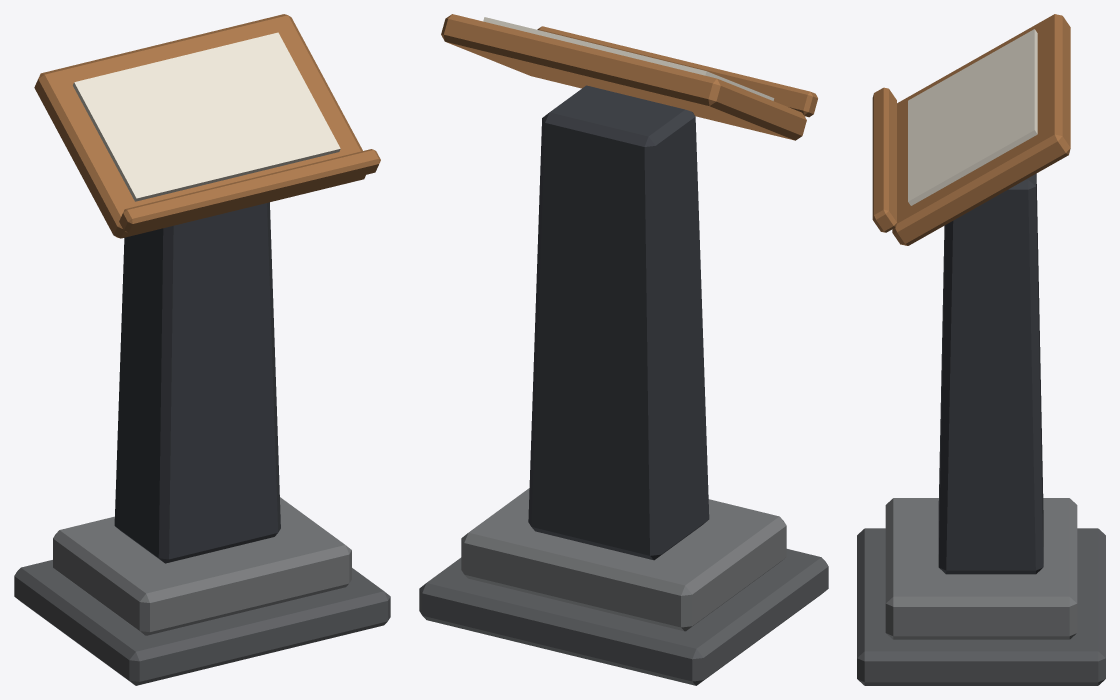
Rendered from Lobby7_InfoLectern.fbx.
The picture shows the model from 3 angles, left to right: view 1: azimuth 30°, elevation 25°; view 2: azimuth 150°, elevation 25°; view 3: azimuth 270°, elevation 25°; orthographic projection. The views are drawn at different scales.
Parts seen in each view (by area): view 1: Charcoal, Screen, SlateStone, Wood, SlateStoneDark; view 2: Charcoal, SlateStone, SlateStoneDark, Wood, Screen; view 3: Charcoal, SlateStone, SlateStoneDark, Wood, Screen.
Part boxes in pixels (box(x1,y1,x2,y2)): Charcoal: box(114, 202, 280, 563); Screen: box(73, 32, 340, 201); SlateStone: box(53, 497, 351, 635); Wood: box(34, 14, 380, 238); SlateStoneDark: box(14, 560, 390, 685); Charcoal: box(528, 85, 709, 560); SlateStone: box(461, 488, 786, 631); SlateStoneDark: box(419, 549, 828, 685); Wood: box(441, 14, 817, 140); Screen: box(483, 17, 774, 100); Charcoal: box(938, 173, 1043, 574); SlateStone: box(885, 498, 1077, 639); SlateStoneDark: box(857, 528, 1105, 685); Wood: box(872, 14, 1070, 245); Screen: box(908, 29, 1037, 205).
Bounding box in the file's own units: 1.6 × 3.17 × 1.3.
